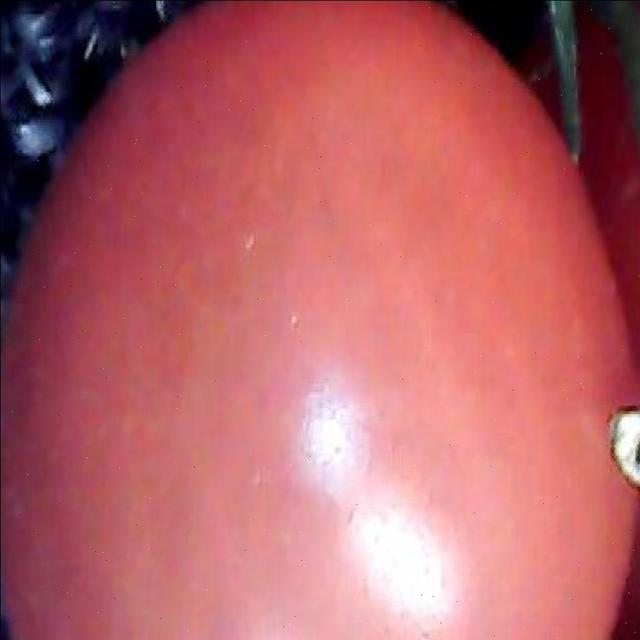Healthy Fruit: (0, 0, 427, 427)
